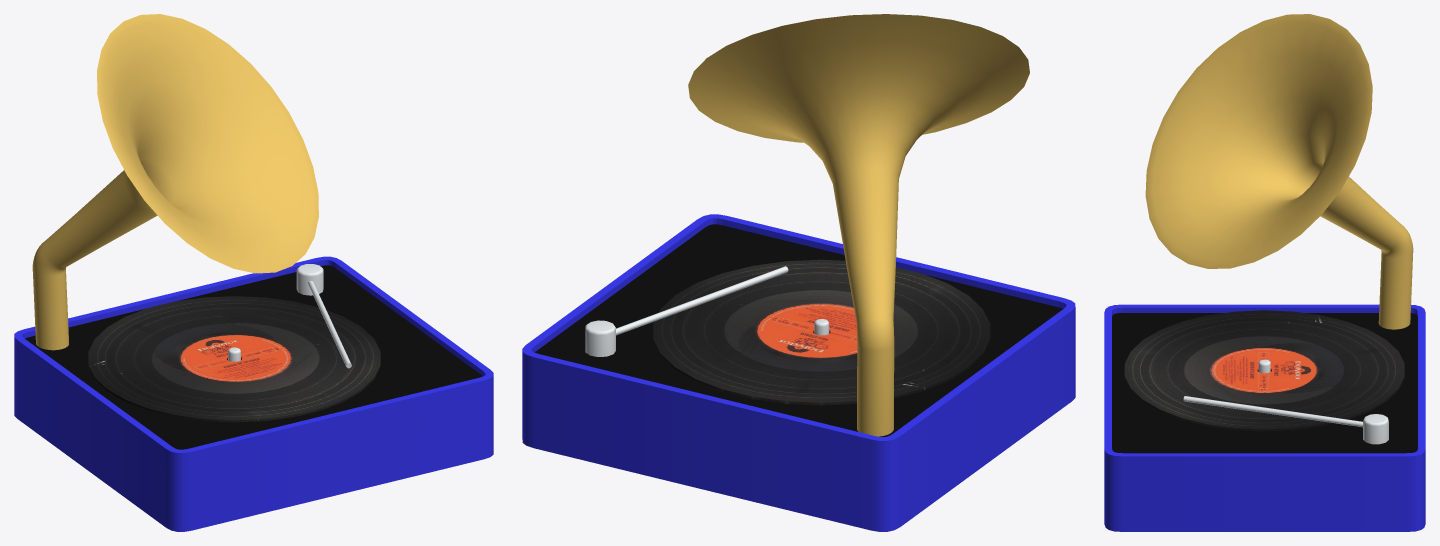
Rendered from disque.fbx.
3 renders of one model, left to right at view 1: azimuth 30°, elevation 25°; view 2: azimuth 150°, elevation 25°; view 3: azimuth 270°, elevation 25°, orthographic. The views are drawn at different scales.
Visible parts, largest first — view 1: Box002, Cylinder001, Cylinder002, Cylinder004, Cylinder005; view 2: Box002, Cylinder001, Cylinder002, Cylinder005, Cylinder004; view 3: Cylinder001, Box002, Cylinder002, Cylinder005, Cylinder004.
Part boxes in pixels (x1,y1,x2,y2): Box002: (14,256,493,531); Cylinder001: (32,14,318,350); Cylinder002: (88,296,380,422); Cylinder004: (296,264,323,295); Cylinder005: (308,281,351,368); Box002: (522,214,1075,531); Cylinder001: (688,14,1029,436); Cylinder002: (653,259,990,405); Cylinder005: (616,266,788,335); Cylinder004: (585,320,615,356); Cylinder001: (1145,14,1413,329); Box002: (1104,304,1425,531); Cylinder002: (1124,310,1404,431); Cylinder005: (1183,396,1362,427); Cylinder004: (1363,414,1388,444).
Size of the model in its own units: 127 by 148 by 112.
Materials: 5 (1 with a texture image).
